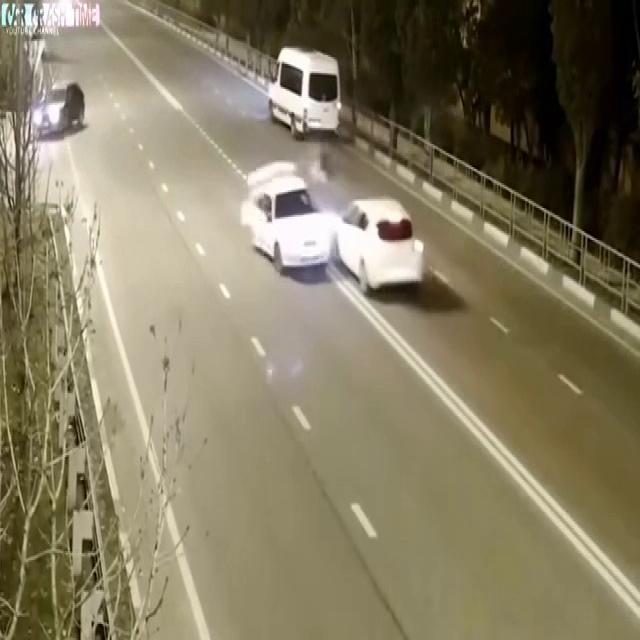accident: (214, 149, 448, 312)
